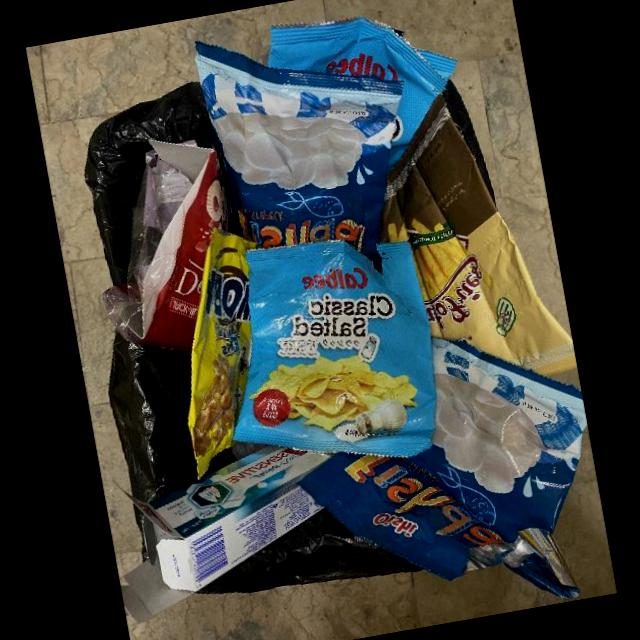bao_bi_thuc_pham: (300, 326, 587, 598), (382, 82, 577, 376), (194, 41, 404, 274), (232, 241, 437, 459), (267, 16, 457, 173), (102, 139, 222, 345), (187, 228, 258, 481)
carton: (120, 445, 338, 623)
